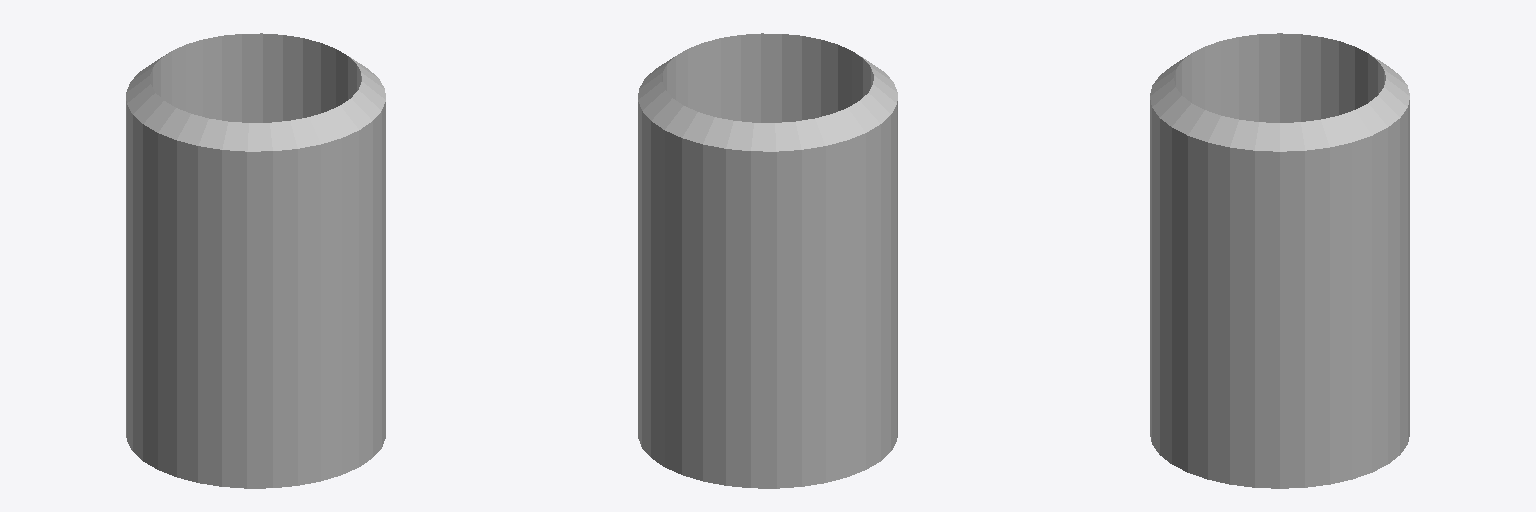
The model's file is trashcan.obj.
The picture shows the model from 3 angles: view 1: azimuth 30°, elevation 25°; view 2: azimuth 150°, elevation 25°; view 3: azimuth 270°, elevation 25°; orthographic projection.
Parts seen in each view (by area): view 1: trashcan; view 2: trashcan; view 3: trashcan.
Part boxes in pixels (left/top/right/bottom): trashcan: left=126, top=33, right=385, bottom=488; trashcan: left=638, top=33, right=897, bottom=488; trashcan: left=1150, top=33, right=1409, bottom=488.
Bounding box in the file's own units: 0.7035 × 1.06 × 0.7035.